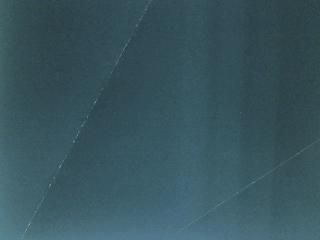crack: (19, 0, 154, 240), (168, 138, 319, 240)
